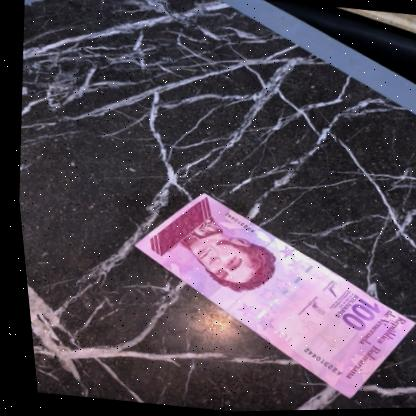one_hundred-front-vef: (107, 180, 416, 411)
